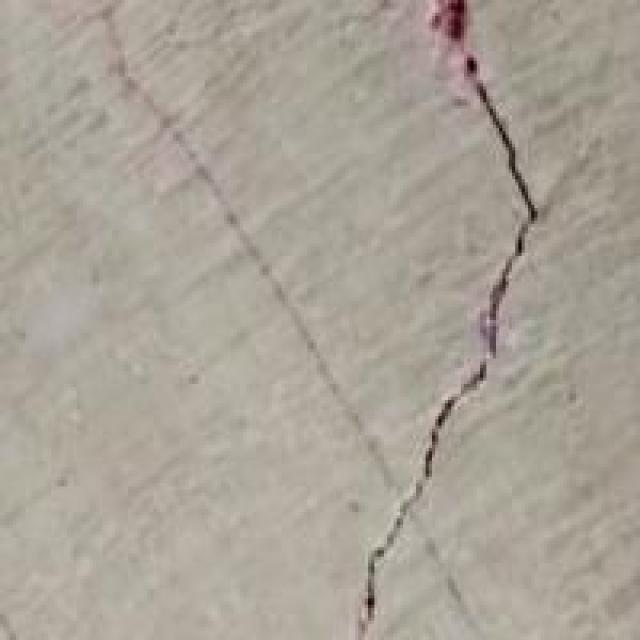Crack: (312, 0, 562, 640)
